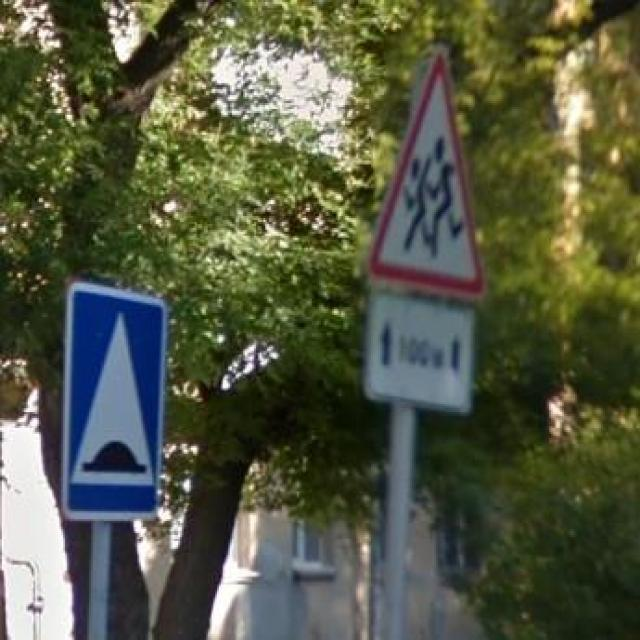traffic_sign: (367, 50, 484, 297), (61, 281, 169, 523)
